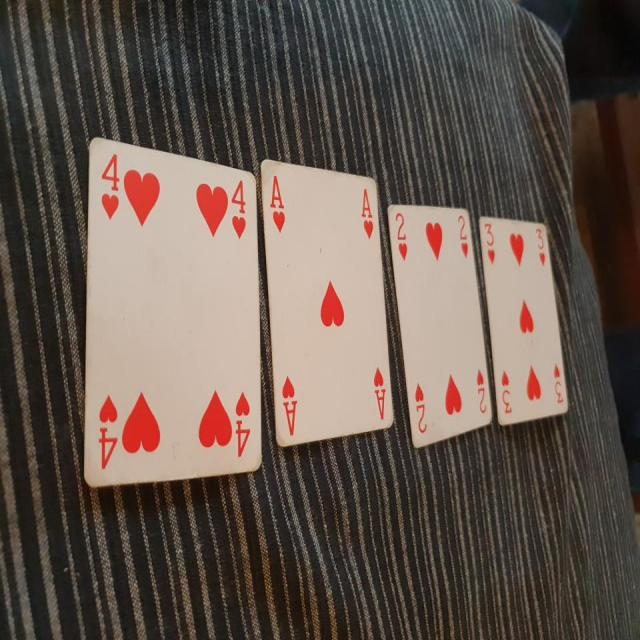2 Hearts: (388, 199, 493, 450)
3 Hearts: (474, 205, 569, 431)
4 Hearts: (81, 131, 268, 494)
A Hearts: (257, 153, 400, 451)
